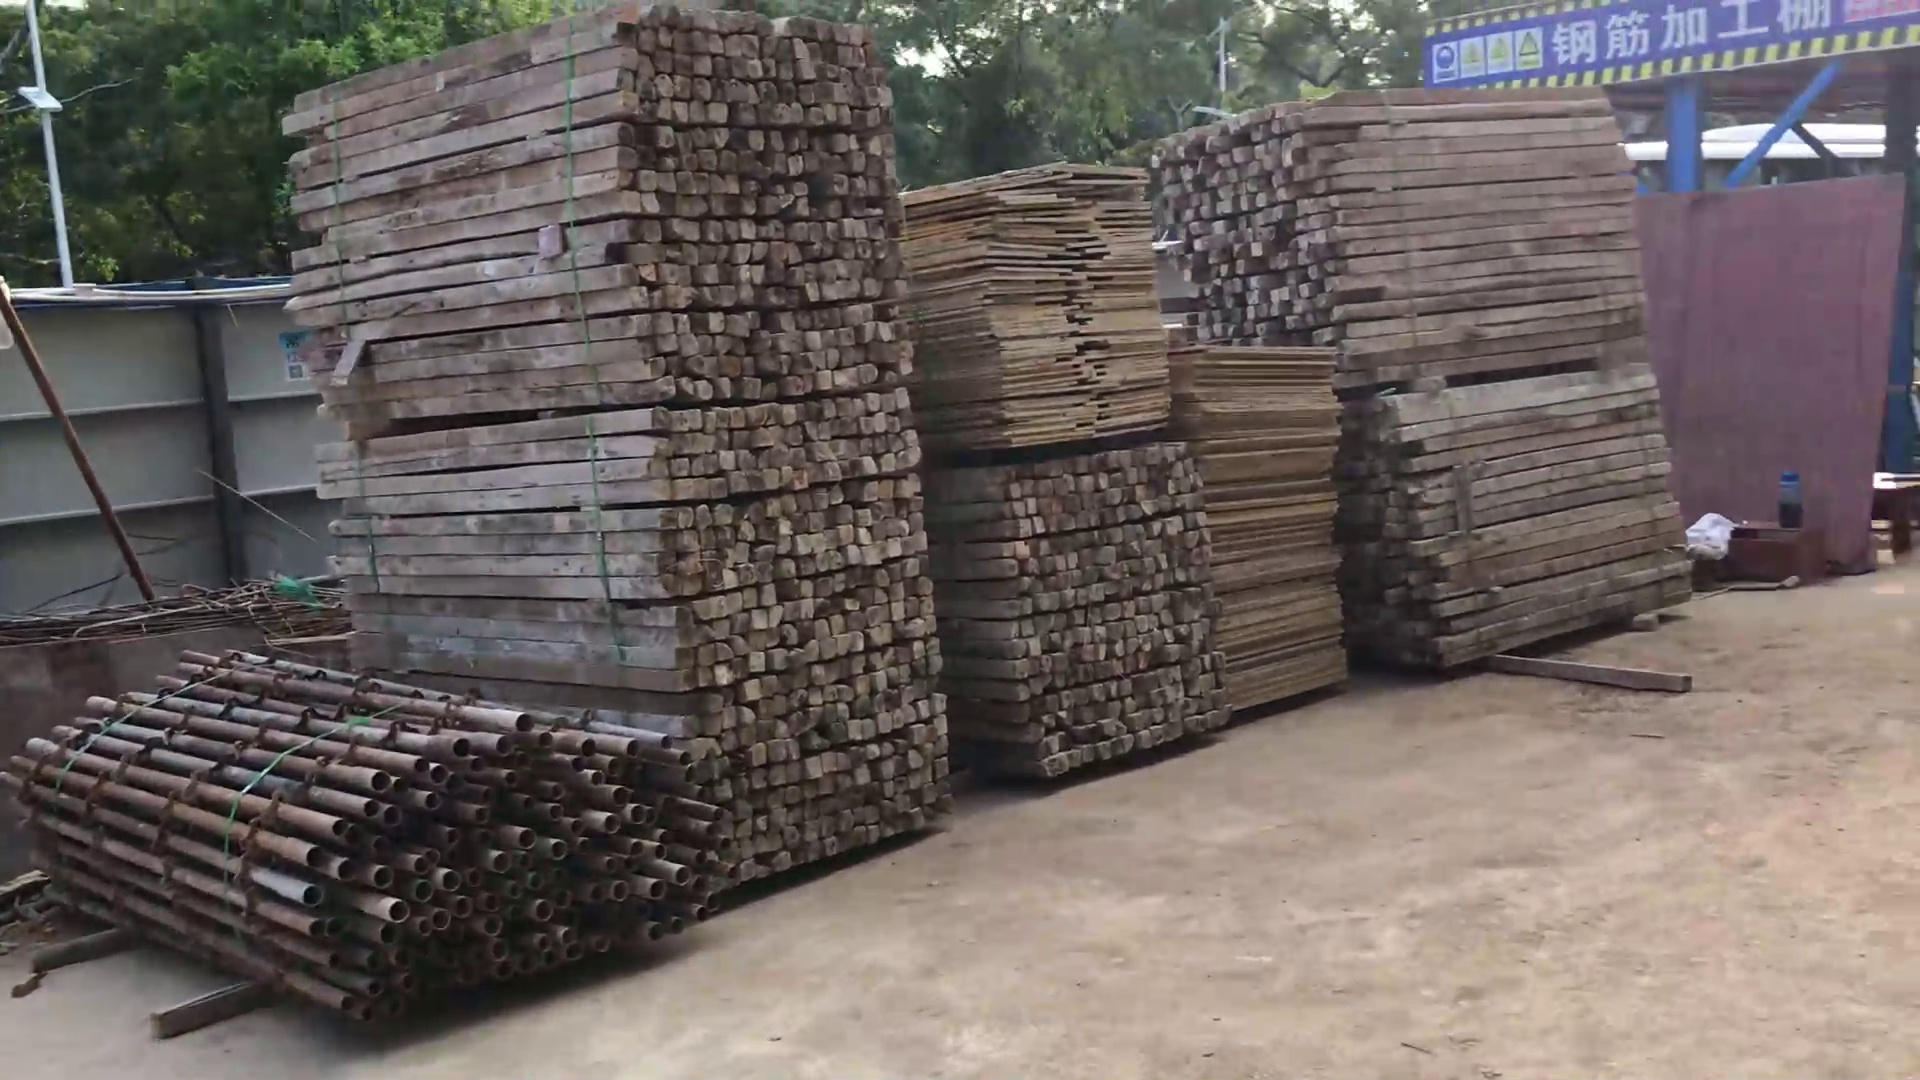board: (905, 161, 1176, 448), (1170, 342, 1346, 717)
scaffold: (1, 647, 738, 1023)
slogan: (1422, 3, 1920, 98)
wood: (287, 3, 957, 884), (1149, 86, 1647, 377), (914, 446, 1234, 786), (1338, 378, 1693, 670)
